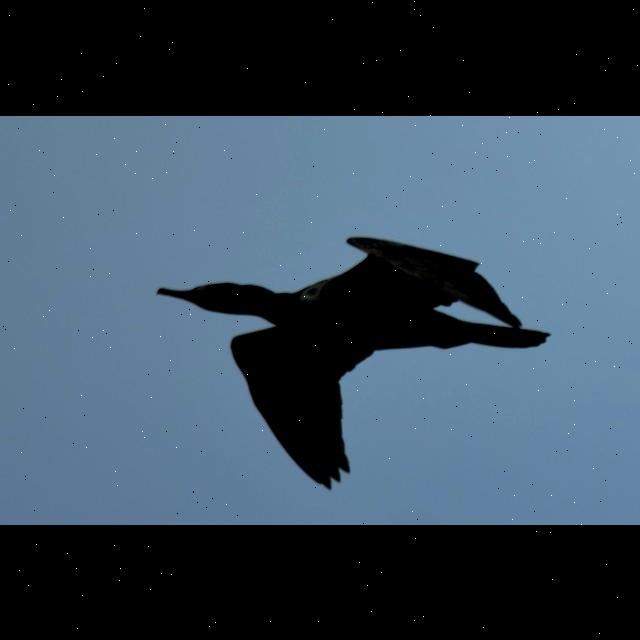cormorant: (153, 232, 554, 493)
